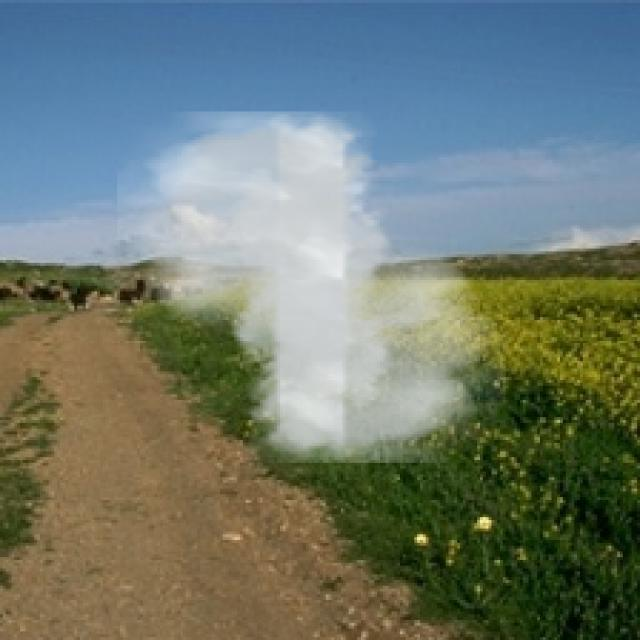Smoke: (117, 111, 506, 463)
